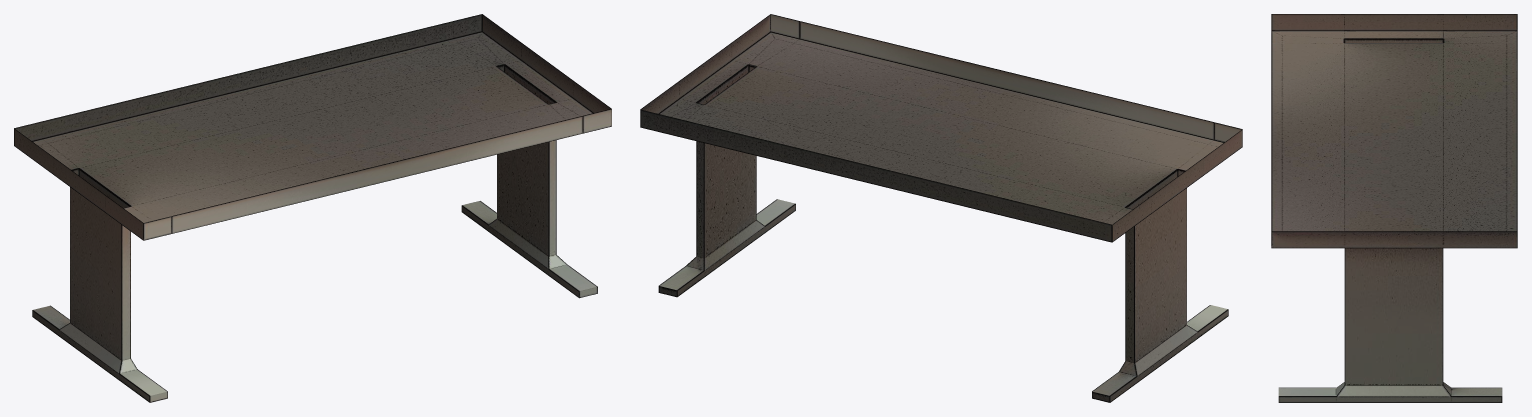
Rendered from desk.glb.
The picture shows the model from 3 angles, left to right: view 1: azimuth 30°, elevation 25°; view 2: azimuth 150°, elevation 25°; view 3: azimuth 270°, elevation 25°; orthographic projection. The views are drawn at different scales.
Visible parts, largest first — view 1: Desk; view 2: Desk; view 3: Desk.
Boxes of the visible parts, x1,y1,x2,y2 form: Desk: [14, 14, 611, 402]; Desk: [640, 14, 1242, 402]; Desk: [1271, 14, 1517, 402].
Size of the model in its own units: 2.37 by 0.8976 by 1.14.
1 material, 1 textured.
